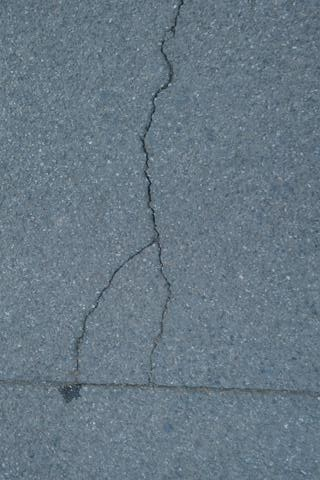A: (73, 1, 187, 384)
